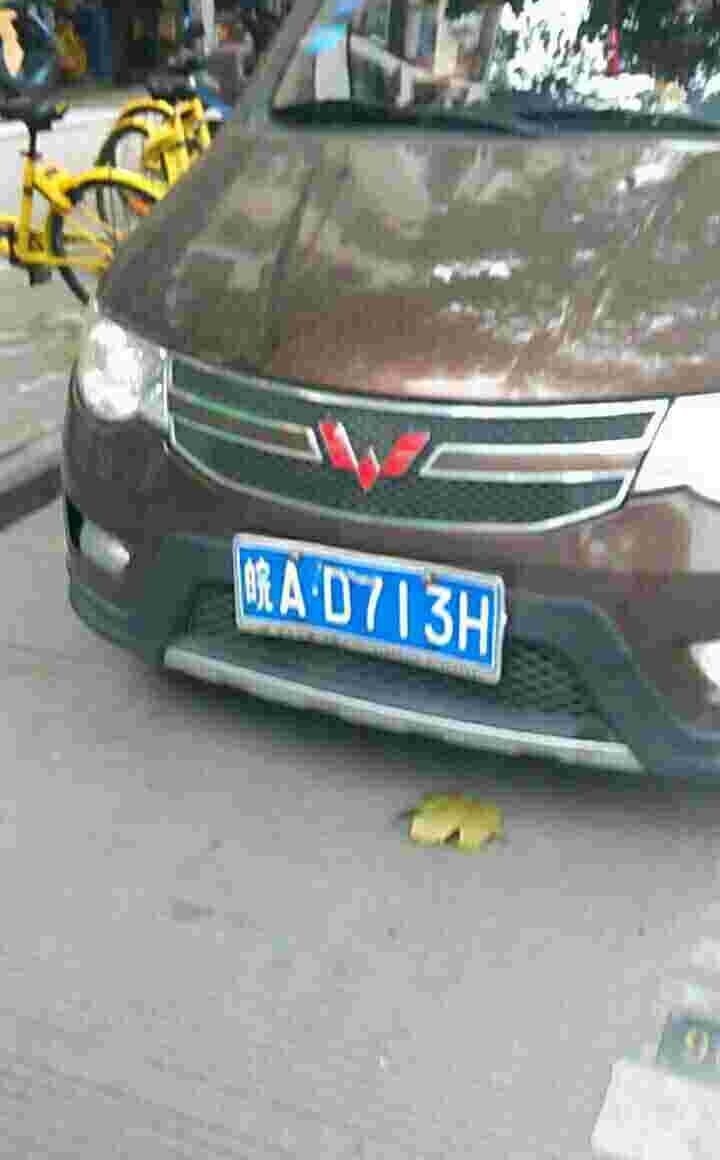license_plate: (237, 541, 496, 667)
